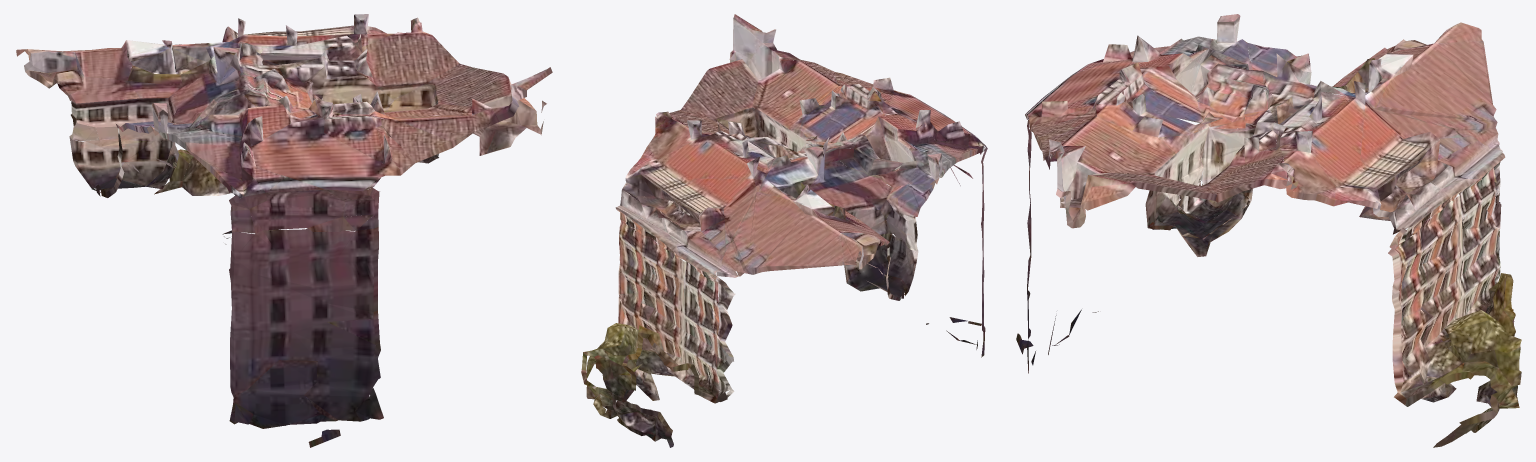
3 renders of one model, left to right at view 1: azimuth 30°, elevation 25°; view 2: azimuth 150°, elevation 25°; view 3: azimuth 270°, elevation 25°, orthographic. The views are drawn at different scales.
Visible parts, largest first — view 1: Mesh_0; view 2: Mesh_0; view 3: Mesh_0.
Boxes of the visible parts, bbox=[...] form: Mesh_0: bbox=[16, 14, 552, 447]; Mesh_0: bbox=[581, 14, 987, 447]; Mesh_0: bbox=[1016, 14, 1521, 447].
Size of the model in its own units: 33.71 by 28.91 by 41.09.
Materials: 2 (2 with a texture image).
